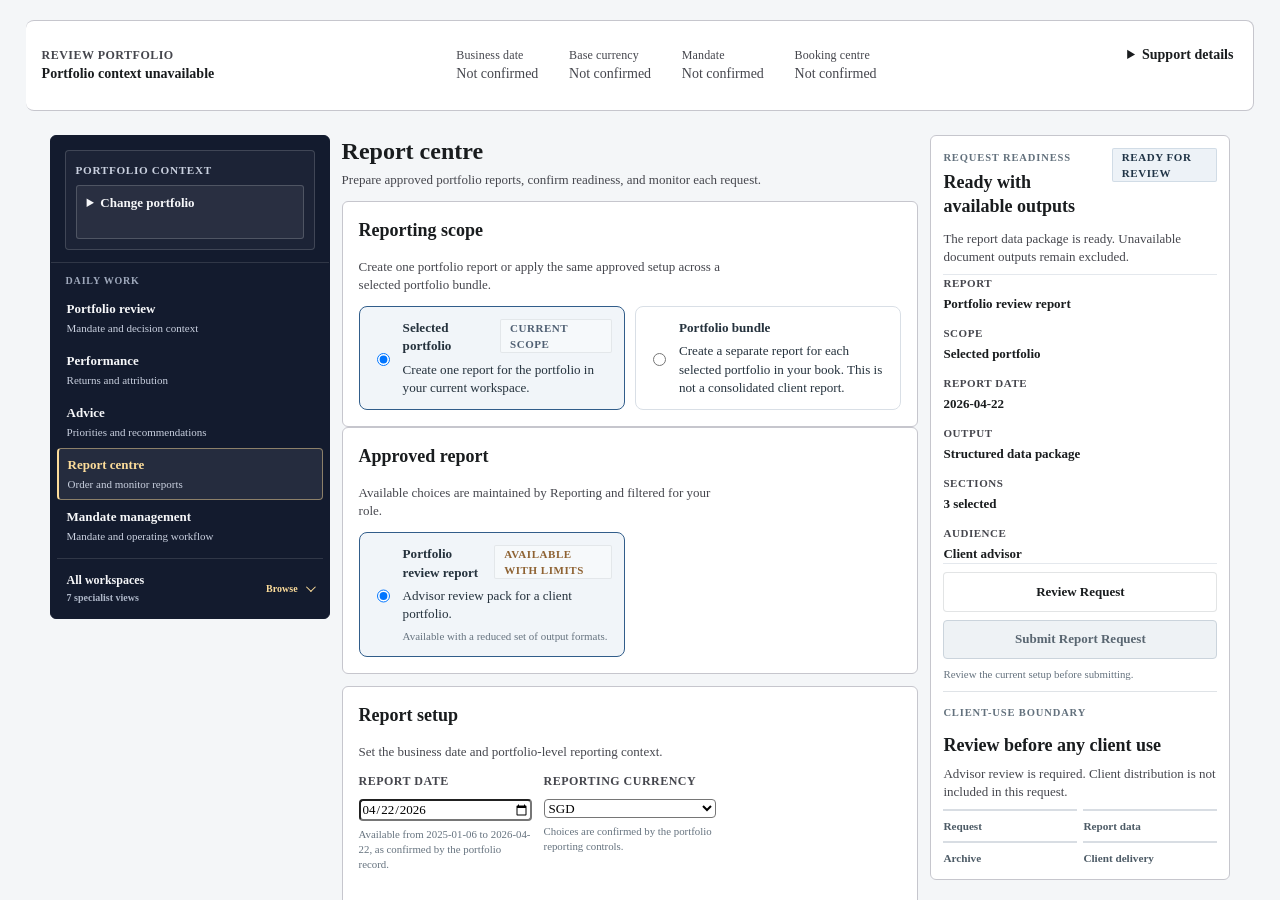
ReportOrderingWorkspace › selects a source-backed portfolio bundle and shows per-portfolio outcomes
expect the heading "Approved report" is shown: met, box [359, 446, 488, 466]
Click the radio button labelled "Portfolio bundle".
click(660, 360)  # box [653, 322, 666, 397]
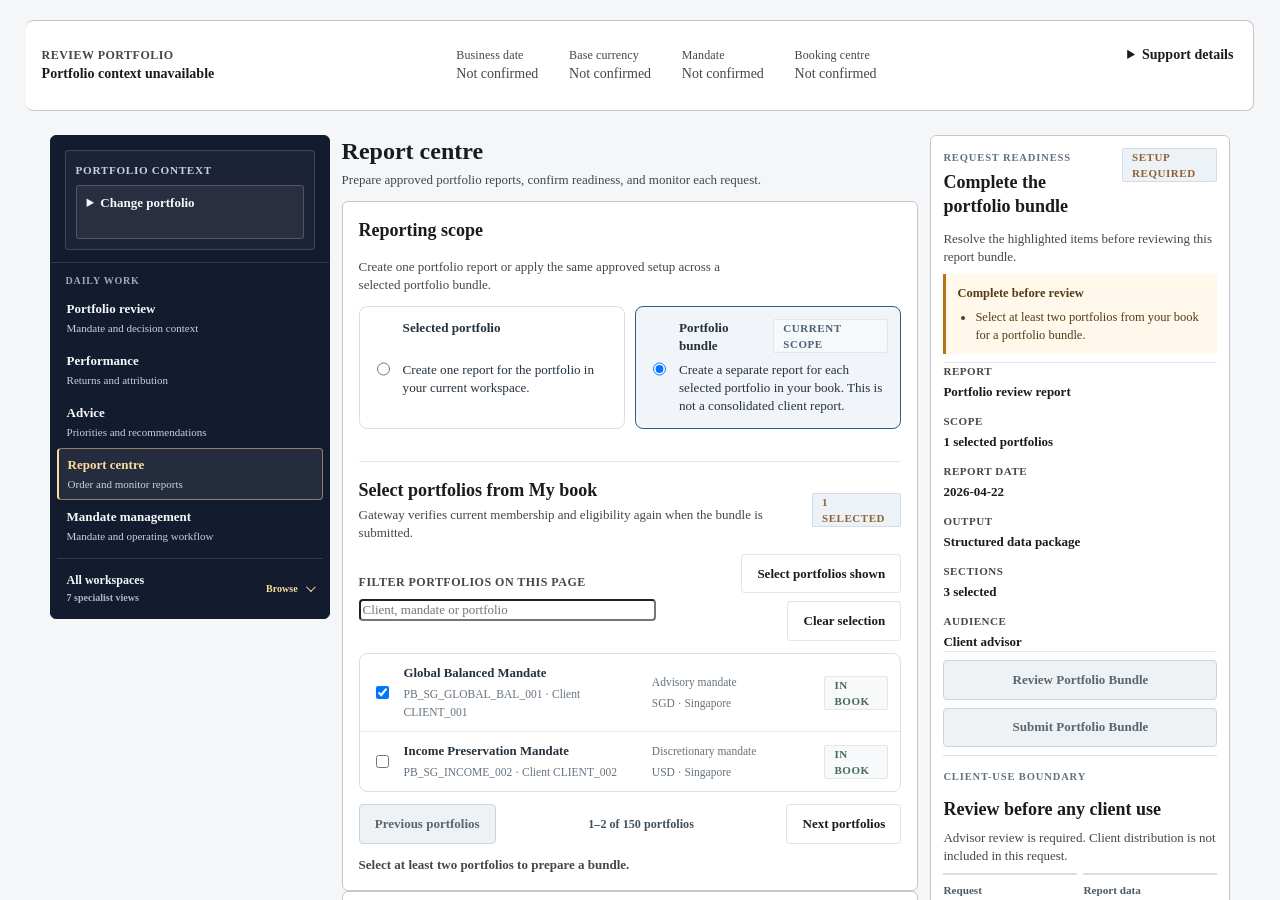
expect the text "1 selected" is shown: met, box [812, 493, 901, 527]
expect the button "Review Portfolio Bundle" is disabled: met, box [943, 660, 1217, 700]
Click the checkbox labelled "Income Preservation Mandate".
click(382, 762)  # box [376, 755, 389, 768]
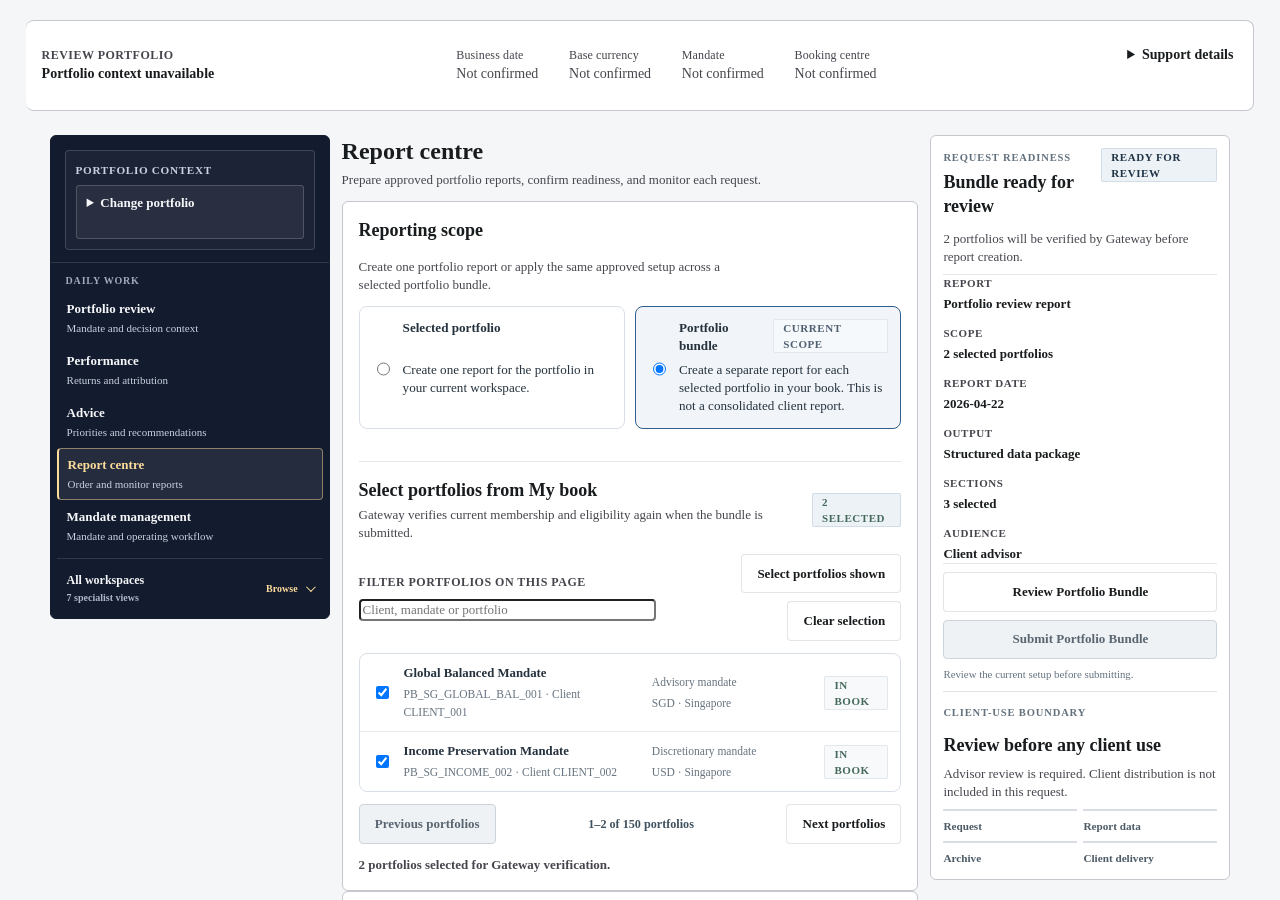
expect the text "2 selected" is shown: met, box [812, 493, 901, 527]
Click the button "Review Portfolio Bundle".
click(1080, 592)  # box [943, 572, 1217, 612]
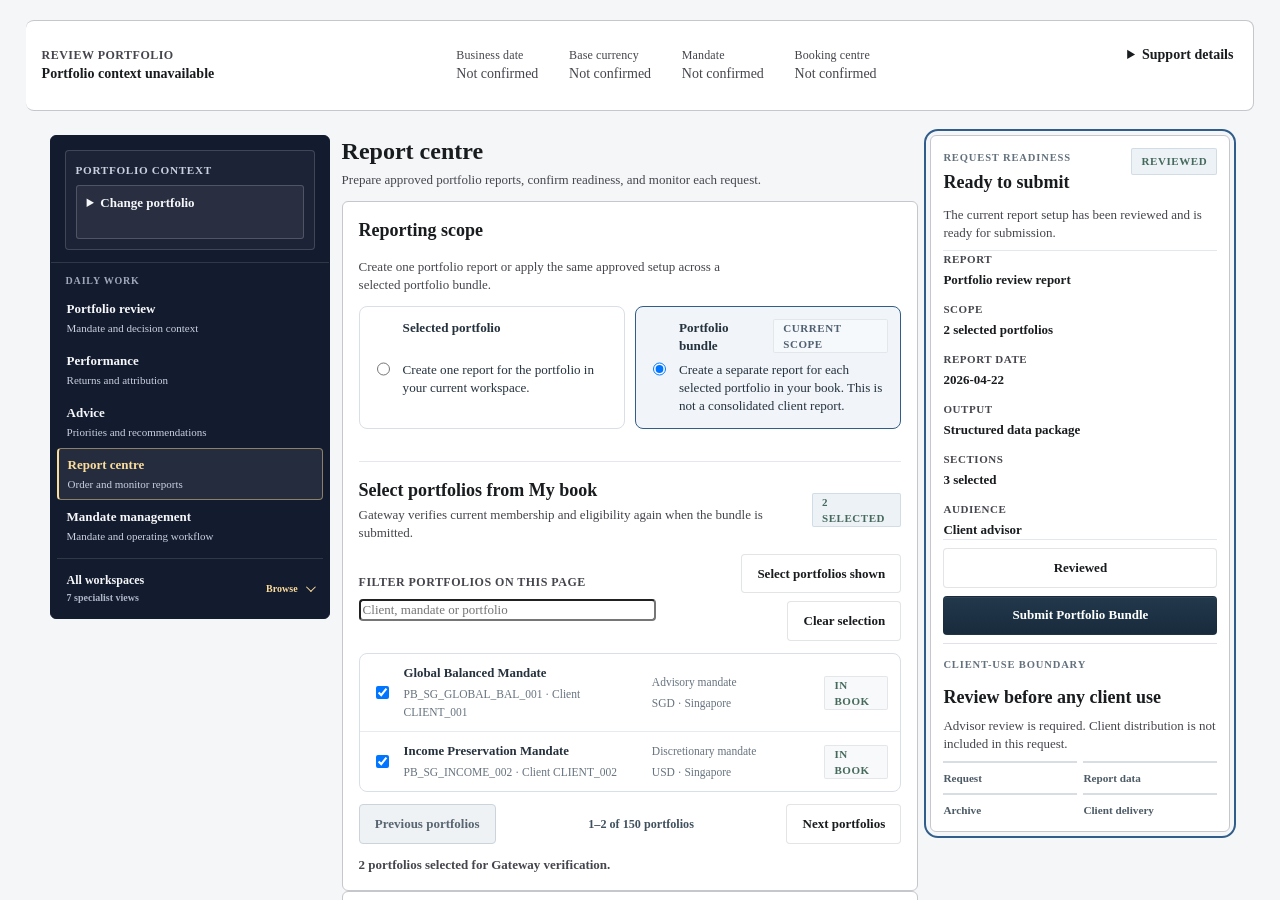
expect the button "Submit Portfolio Bundle" is enabled: met
Click the button "Submit Portfolio Bundle".
click(1080, 616)  # box [943, 596, 1217, 635]
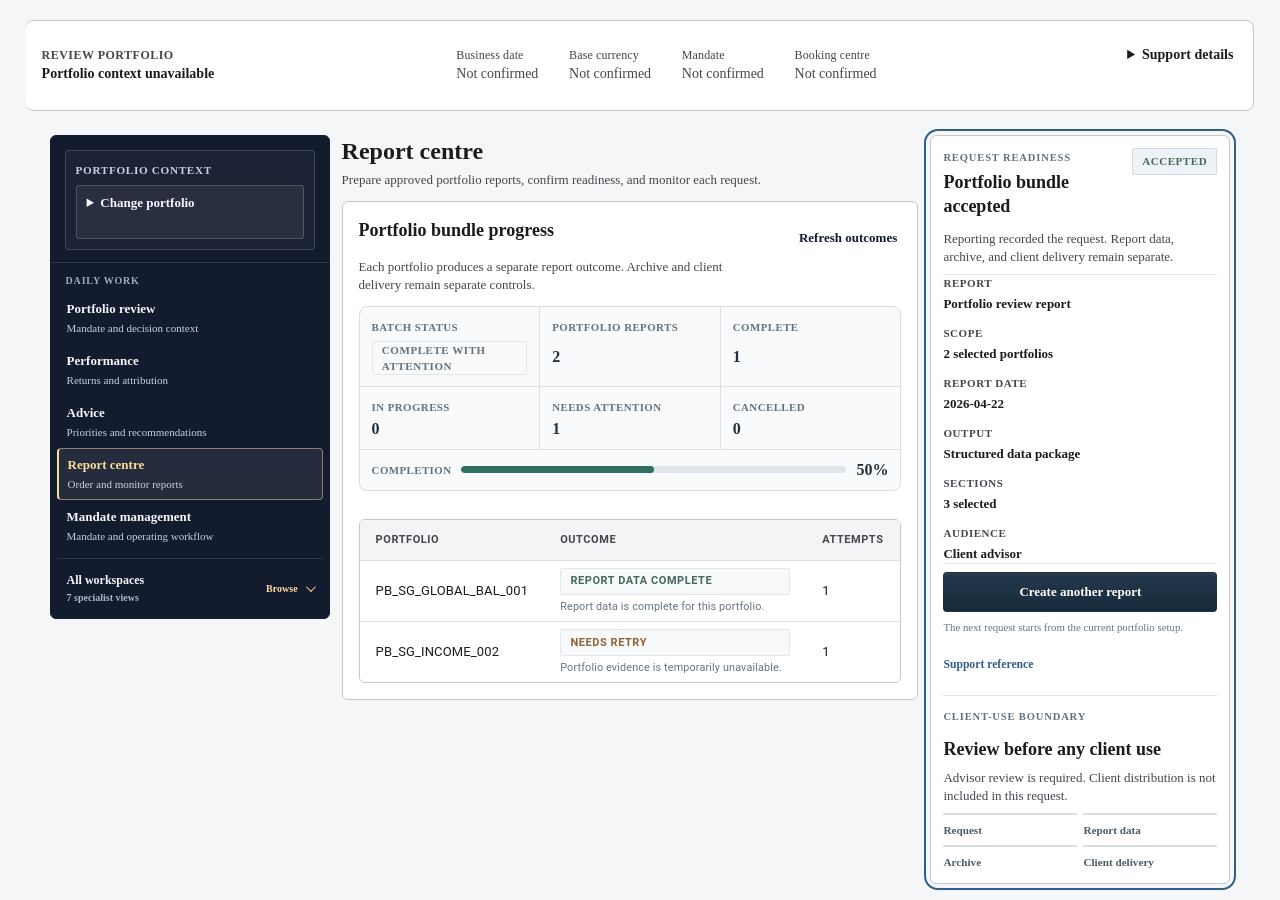
expect the table named "Portfolio report bundle outcomes" is shown: met, box [360, 520, 901, 682]
expect the text "Needs retry" is shown: met, box [560, 629, 790, 656]
expect the text "50%" is shown: met, box [856, 461, 888, 479]
